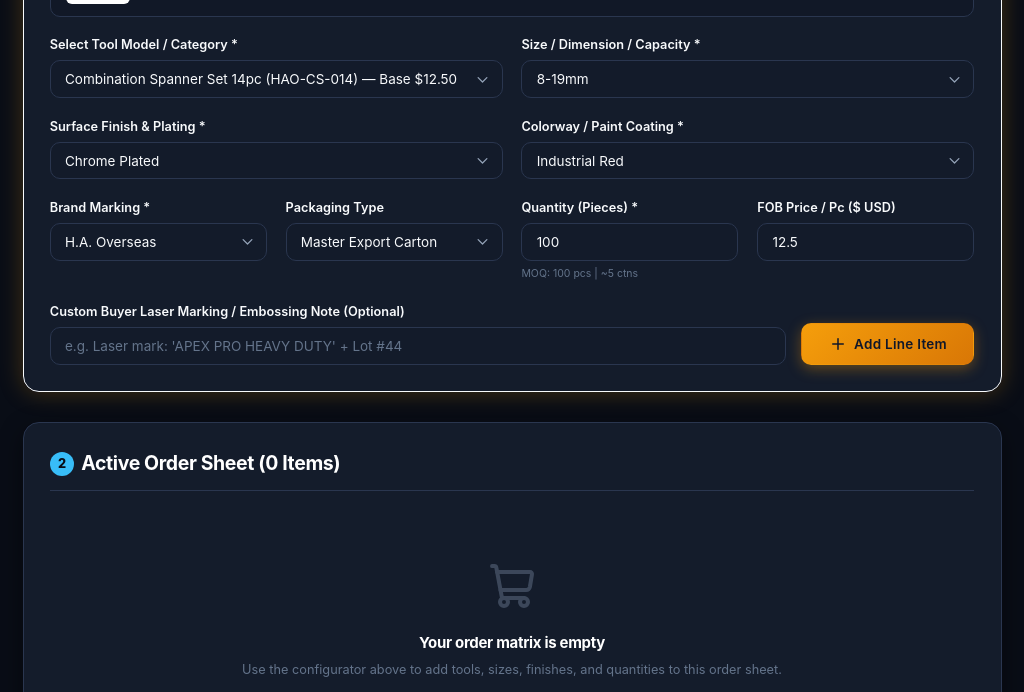
Test: OrderCreatorPage templates (FE-12) › saves the current sheet as a named template
(page scrolled)
Click the button "Add Line Item" at coordinates (888, 344), box [801, 322, 974, 364]
(page scrolled)
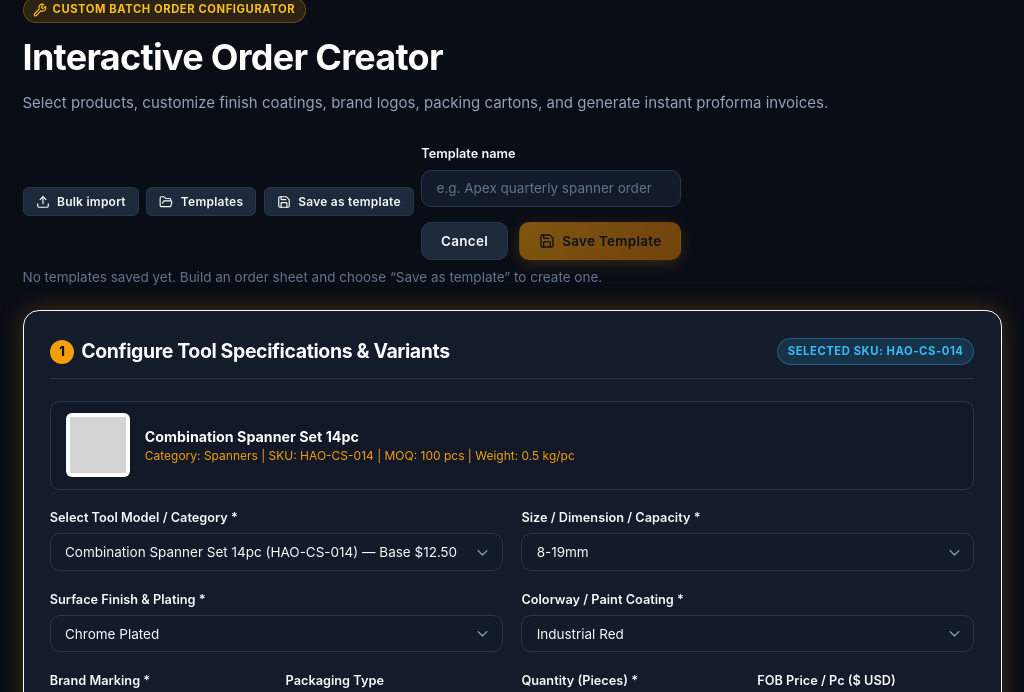
Click the button "Save as template" at coordinates (339, 202), box [264, 187, 414, 216]
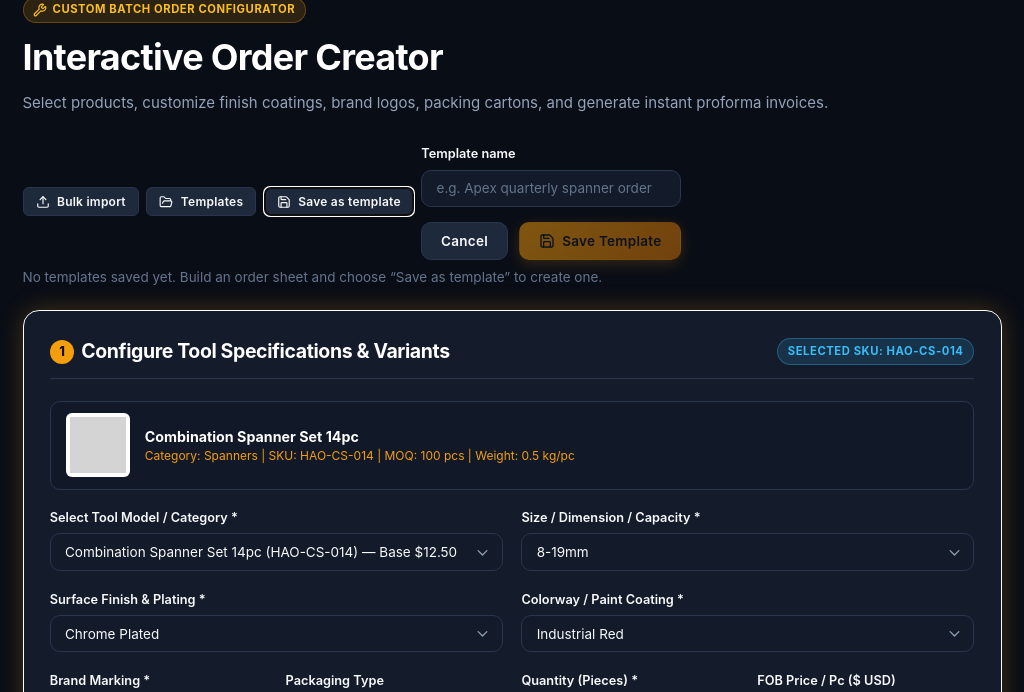
Type "My saved template" into the field labelled "Template name" at coordinates (551, 188), box [421, 170, 681, 207]
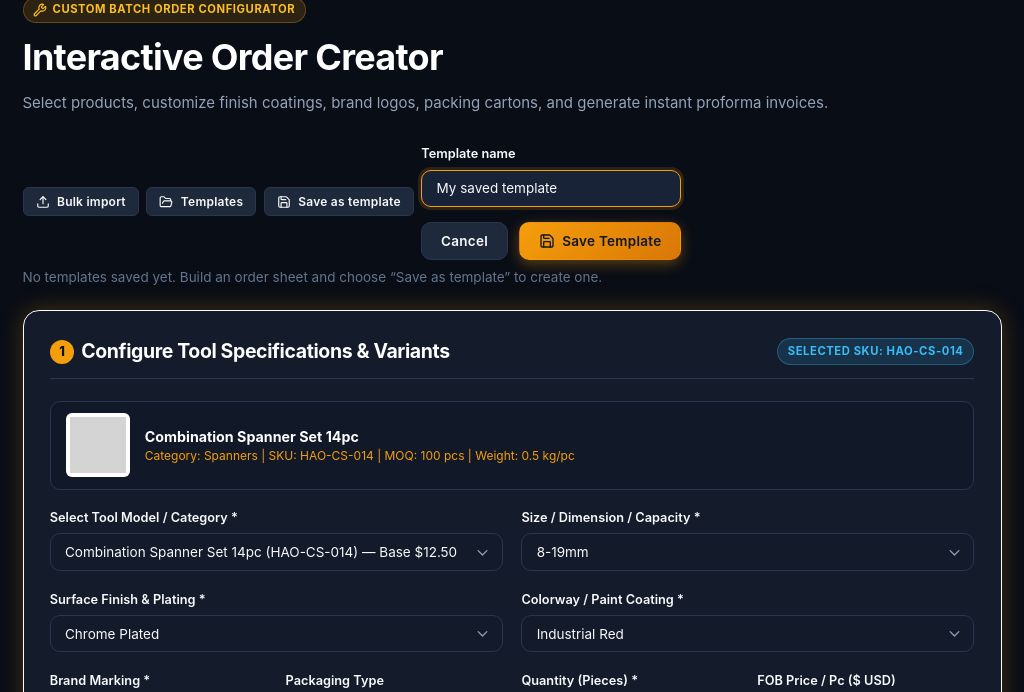
Click the button "Save Template" at coordinates (600, 241), box [519, 222, 681, 260]
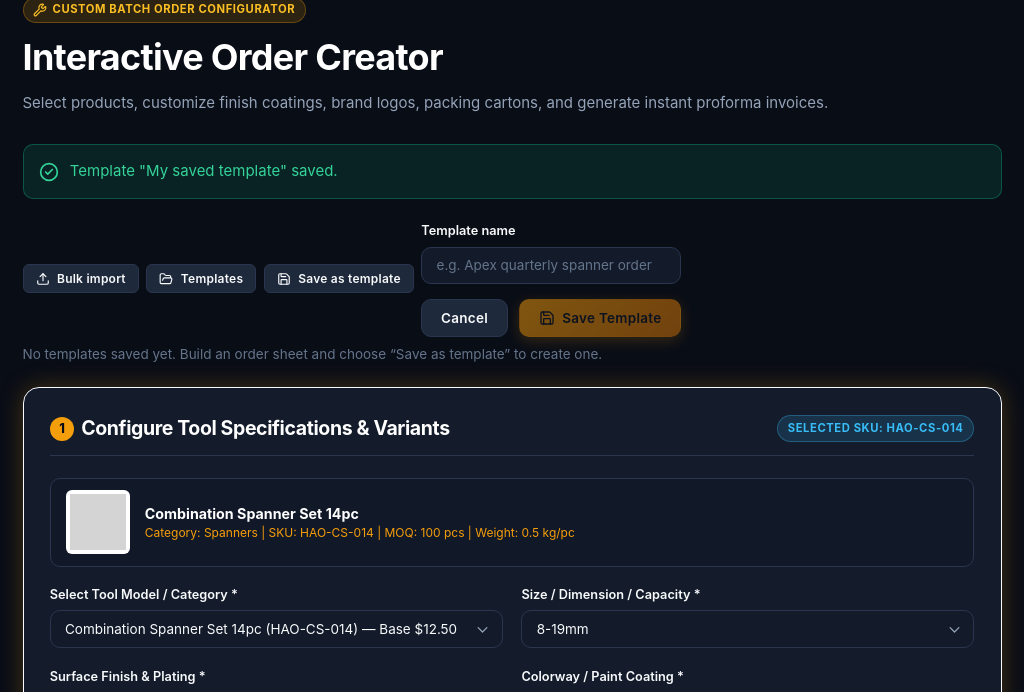
Check: the text "Template \"My saved template\" saved." is shown, box [70, 160, 338, 183]
